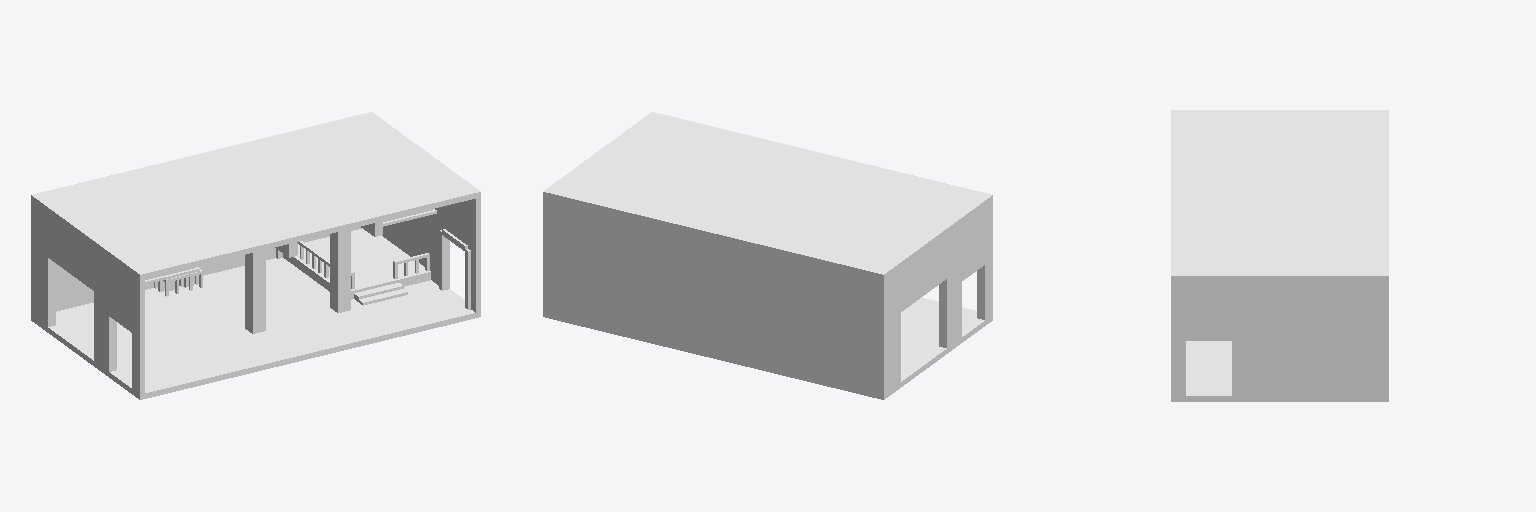
File: Volt-9-Vhod_v_shelter_1lvl.obj
3 views of the same model, side by side, from view 1: azimuth 30°, elevation 25°; view 2: azimuth 150°, elevation 25°; view 3: azimuth 270°, elevation 25° (orthographic).
Parts seen in each view (by area): view 1: Vhod_v_shelter_1lvl; view 2: Vhod_v_shelter_1lvl; view 3: Vhod_v_shelter_1lvl.
Part boxes in pixels (bbox=[...]): Vhod_v_shelter_1lvl: bbox=[31, 112, 480, 399]; Vhod_v_shelter_1lvl: bbox=[543, 112, 992, 399]; Vhod_v_shelter_1lvl: bbox=[1171, 110, 1388, 401].
Bounding box in the file's own units: 12.8 × 4.5 × 7.1.